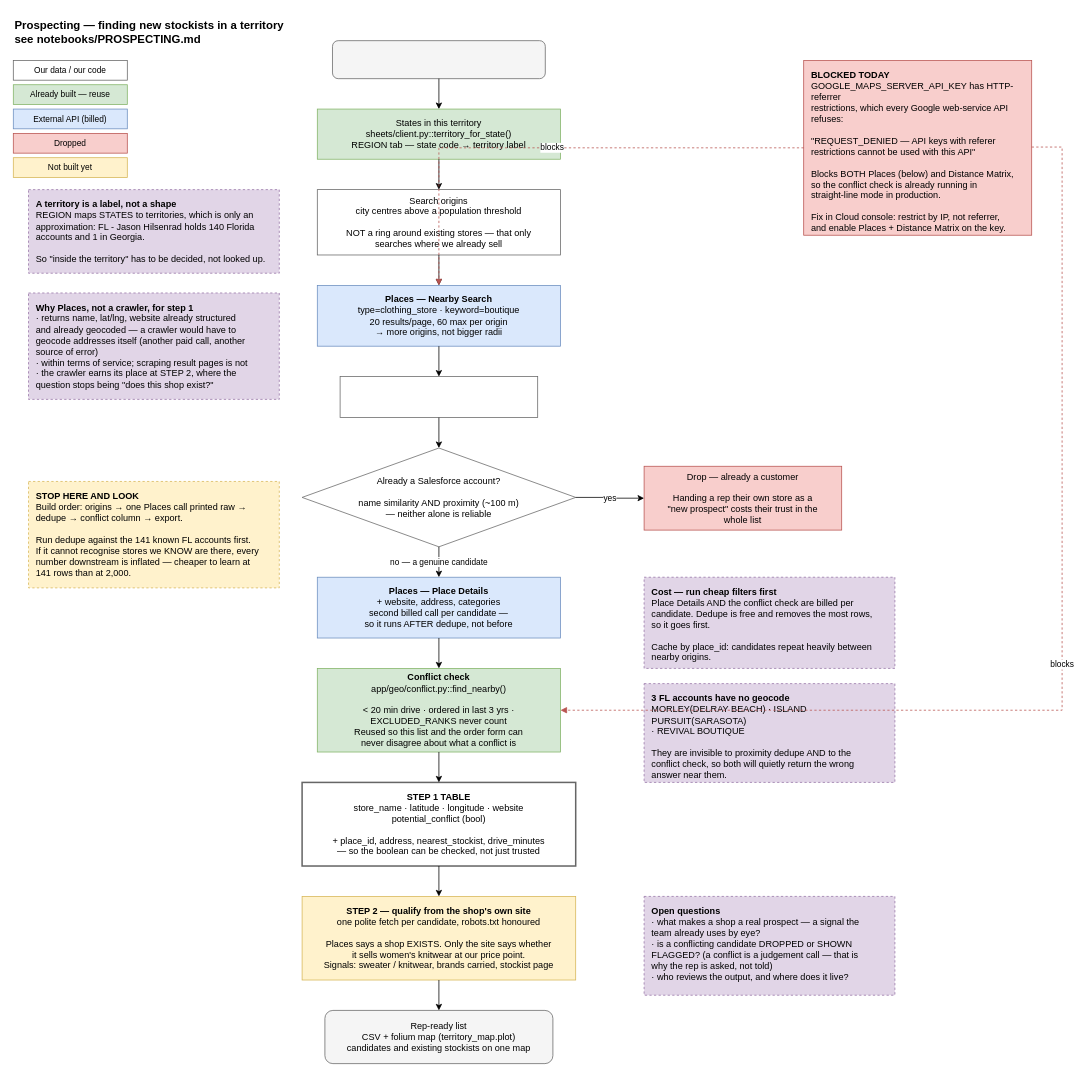
The diagram is 1087 pixels wide and 1077 high, and some of its shapes have lost their labels. Each missing label, with the box of its shape:
Raw candidates name · lat/lng · place_id · types: (339, 376, 538, 418)
Territory e.g. "FL - Jason Hilsenrad": (332, 40, 545, 79)
